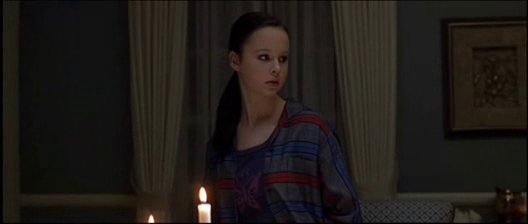face: (247, 39, 290, 98)
ms: (1, 1, 528, 224)
person: (199, 11, 363, 224)
